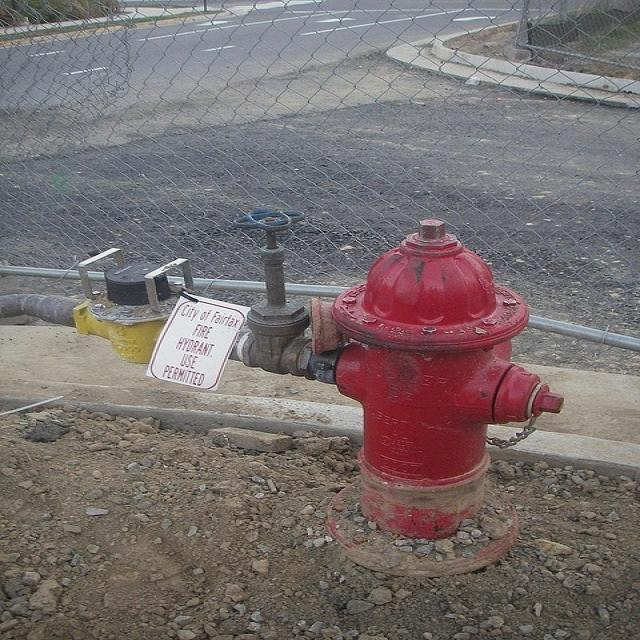fire_hydrant: (302, 176, 528, 584)
